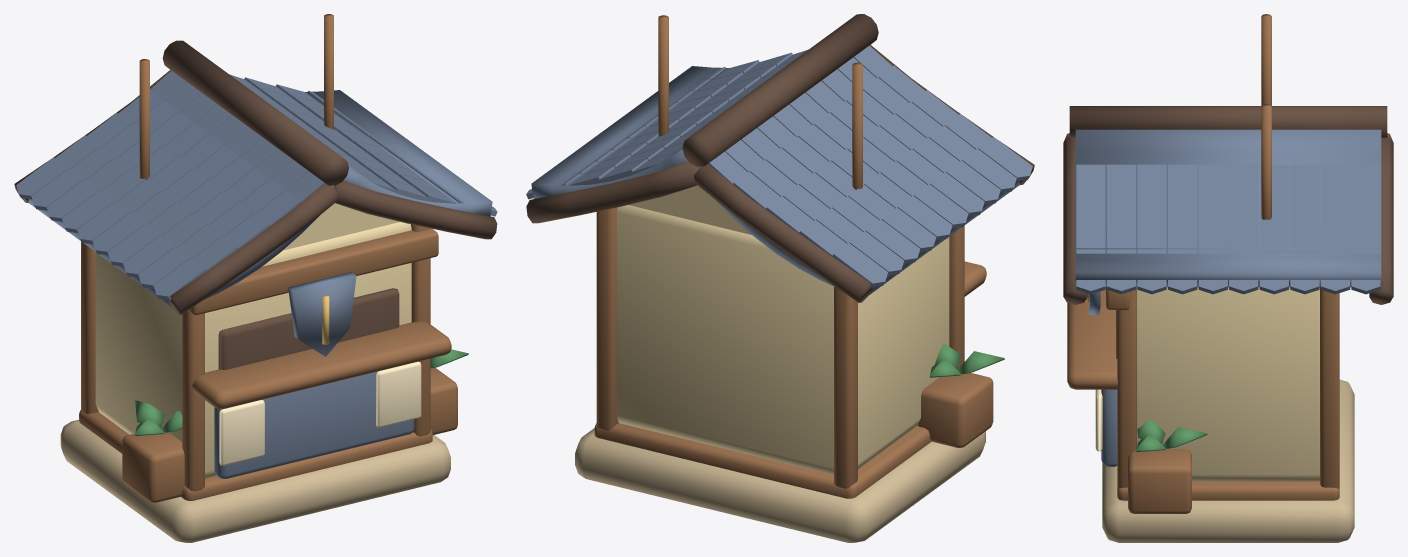
Rendered from booth_lock.glb.
3 views of the same model, side by side, from view 1: azimuth 30°, elevation 25°; view 2: azimuth 150°, elevation 25°; view 3: azimuth 270°, elevation 25° (orthographic). The views are drawn at different scales.
Parts seen in each view (by area): view 1: booth_lock_crafted_mesh; view 2: booth_lock_crafted_mesh; view 3: booth_lock_crafted_mesh.
Part boxes in pixels (bbox=[...]): booth_lock_crafted_mesh: bbox=[14, 14, 497, 542]; booth_lock_crafted_mesh: bbox=[526, 14, 1034, 542]; booth_lock_crafted_mesh: bbox=[1063, 14, 1393, 542].
Size of the model in its own units: 2.57 by 3.05 by 2.17.
